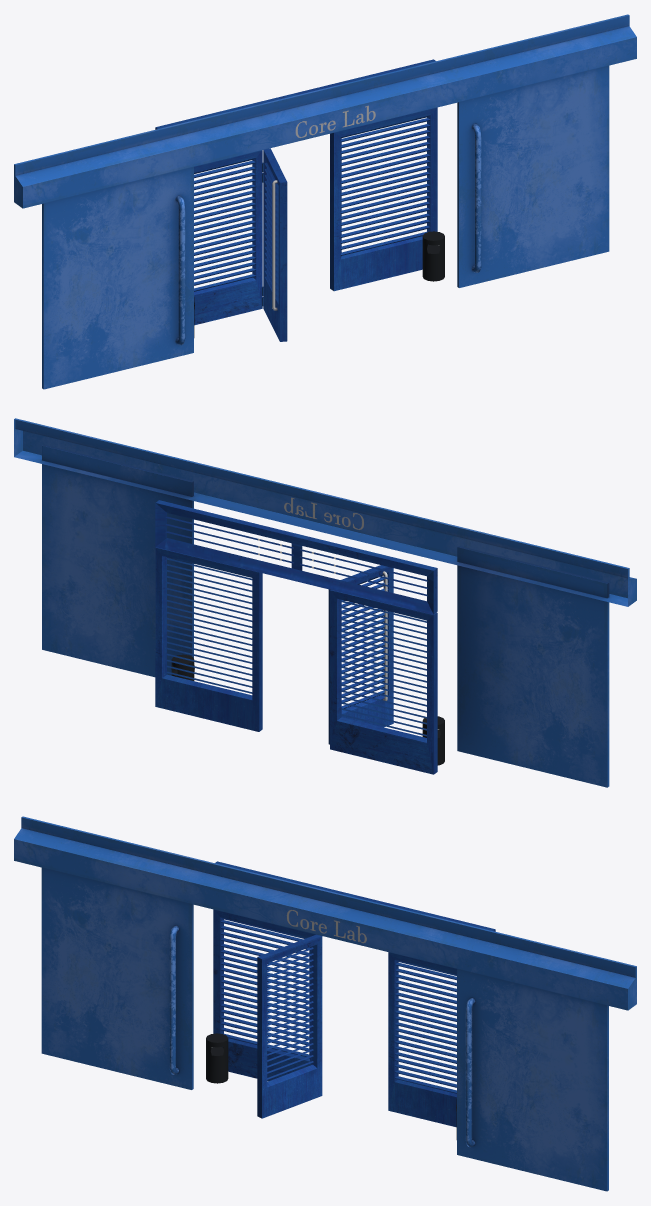
Rendered from PortaMainCorelab.fbx.
3 renders of one model, top to bottom at view 1: azimuth 30°, elevation 25°; view 2: azimuth 150°, elevation 25°; view 3: azimuth 330°, elevation 25°, orthographic.
Visible parts, largest first — view 1: Cylinder.001, Cube.006; view 2: Cylinder.001, Cube.006; view 3: Cylinder.001, Cube.006.
Part boxes in pixels (x1,y1,x2,y2): Cylinder.001: (14, 14, 636, 389); Cube.006: (263, 148, 287, 341); Cylinder.001: (14, 418, 636, 787); Cube.006: (328, 565, 393, 744); Cylinder.001: (14, 816, 636, 1191); Cube.006: (257, 934, 322, 1118).
Bounding box in the file's own units: 9.93 × 3.51 × 1.22.
Materials: 1 (1 with a texture image).
